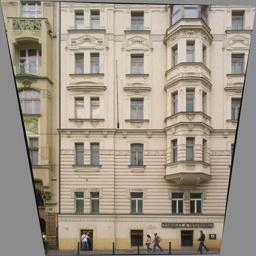building: (58, 4, 253, 256)
